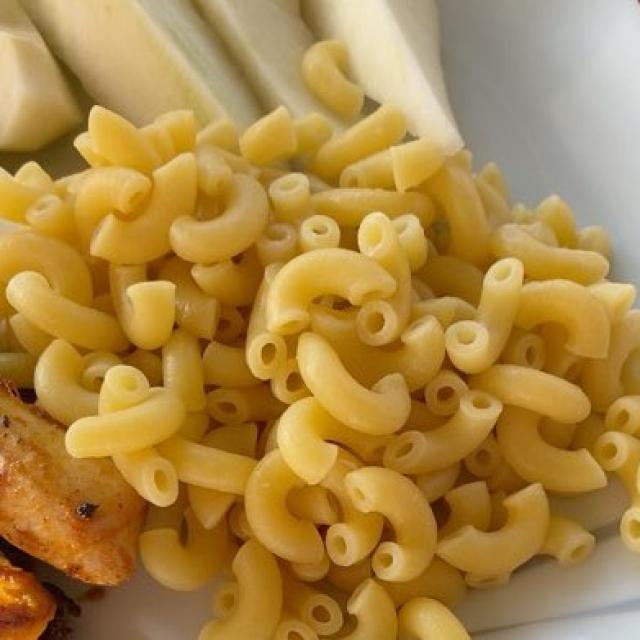pasta-hornli: (10, 76, 634, 636)
